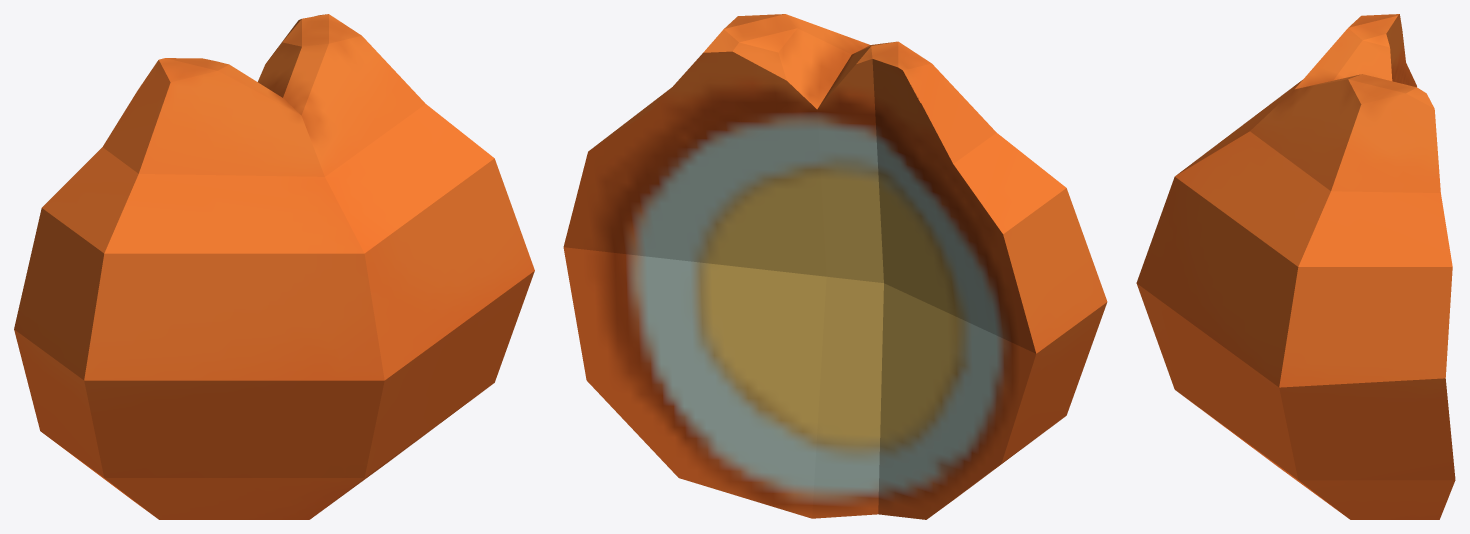
Rendered from Foods_KwekKwekEaten.fbx.
3 renders of one model, left to right at view 1: azimuth 30°, elevation 25°; view 2: azimuth 150°, elevation 25°; view 3: azimuth 270°, elevation 25°, orthographic. The views are drawn at different scales.
Parts seen in each view (by area): view 1: KwekKwekBite; view 2: KwekKwekBite; view 3: KwekKwekBite.
Part boxes in pixels (left/top/right/bottom): KwekKwekBite: left=14, top=14, right=534, bottom=519; KwekKwekBite: left=563, top=14, right=1107, bottom=519; KwekKwekBite: left=1136, top=14, right=1455, bottom=519.
Bounding box in the file's own units: 142 × 91.78 × 139.
Materials: 1 (1 with a texture image).
